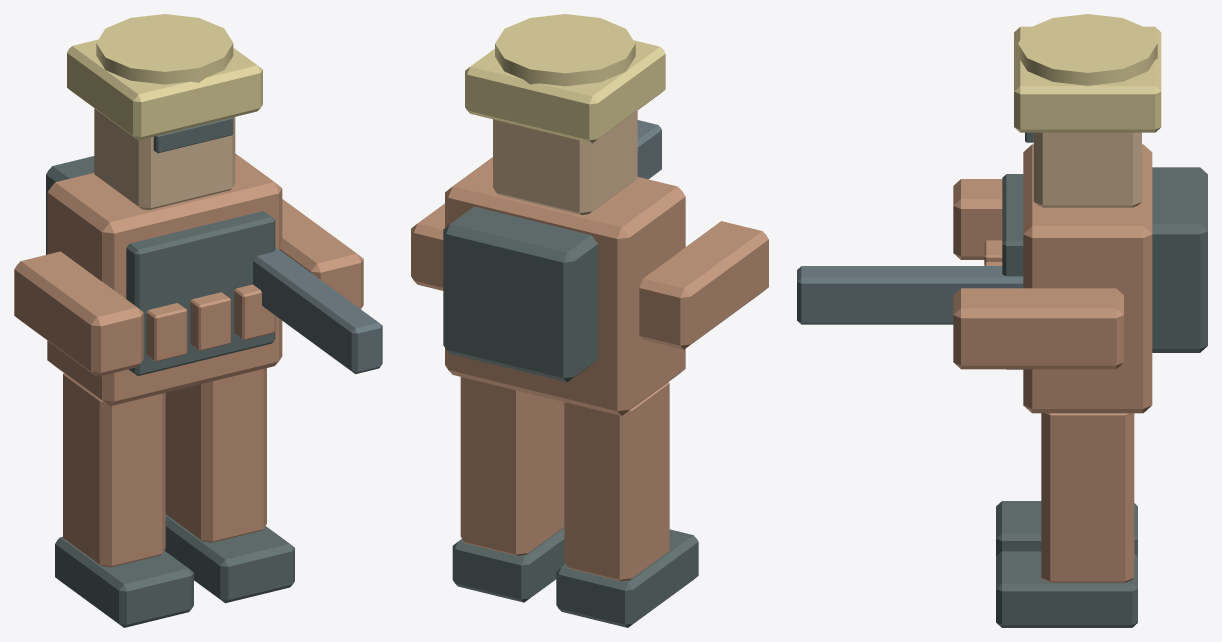
Rendered from rifleman.glb.
3 renders of one model, left to right at view 1: azimuth 30°, elevation 25°; view 2: azimuth 150°, elevation 25°; view 3: azimuth 270°, elevation 25°, orthographic. The views are drawn at different scales.
Parts seen in each view (by area): view 1: Cube.004, Cube, Cube.002, Detail ballistic vest, Cube.008, Cube.007, Cube.006, Cube.010, Detail helmet crown, Cube.001, Cube.003, Cube.009 (+5 smaller); view 2: Cube.005, Cube.004, Cube, Cube.002, Cube.008, Cube.007, Cube.006, Detail helmet crown, Cube.001, Cube.003, Cube.009, Cube.010; view 3: Cube.004, Cube.002, Cube.009, Cube.010, Cube.005, Cube.007, Cube.006, Detail helmet crown, Cube.003, Cube.008, Cube.001, Detail ballistic vest.
Boxes of the visible parts, x1,y1,x2,y2 form: Cube.004: (47,153,282,406); Cube: (63,373,165,567); Cube.002: (165,368,266,542); Detail ballistic vest: (126,211,275,375); Cube.008: (14,251,143,376); Cube.007: (67,39,262,140); Cube.006: (94,108,235,210); Cube.010: (253,247,382,374); Detail helmet crown: (96,14,233,84); Cube.001: (55,536,193,627); Cube.003: (164,514,294,603); Cube.009: (279,199,363,308); Cube.005: (443,206,597,382); Cube.004: (445,157,685,415); Cube: (564,382,669,580); Cube.002: (460,377,564,555); Cube.008: (639,221,768,349); Cube.007: (465,40,665,143); Cube.006: (493,110,637,214); Detail helmet crown: (495,14,635,86); Cube.001: (556,529,698,627); Cube.003: (452,527,565,602); Cube.009: (411,203,444,290); Cube.010: (637,120,661,179); Cube.004: (1023,144,1152,413); Cube.002: (1041,413,1134,582); Cube.009: (953,288,1123,369); Cube.010: (797,266,1023,324); Cube.005: (1152,167,1207,352); Cube.007: (1014,26,1161,132); Cube.006: (1033,132,1141,207); Detail helmet crown: (1018,14,1157,85); Cube.003: (996,551,1137,627); Cube.008: (953,179,1002,259); Cube.001: (996,501,1137,556); Detail ballistic vest: (1002,174,1023,369).
Size of the model in its own units: 1.24 by 2.32 by 1.59.
